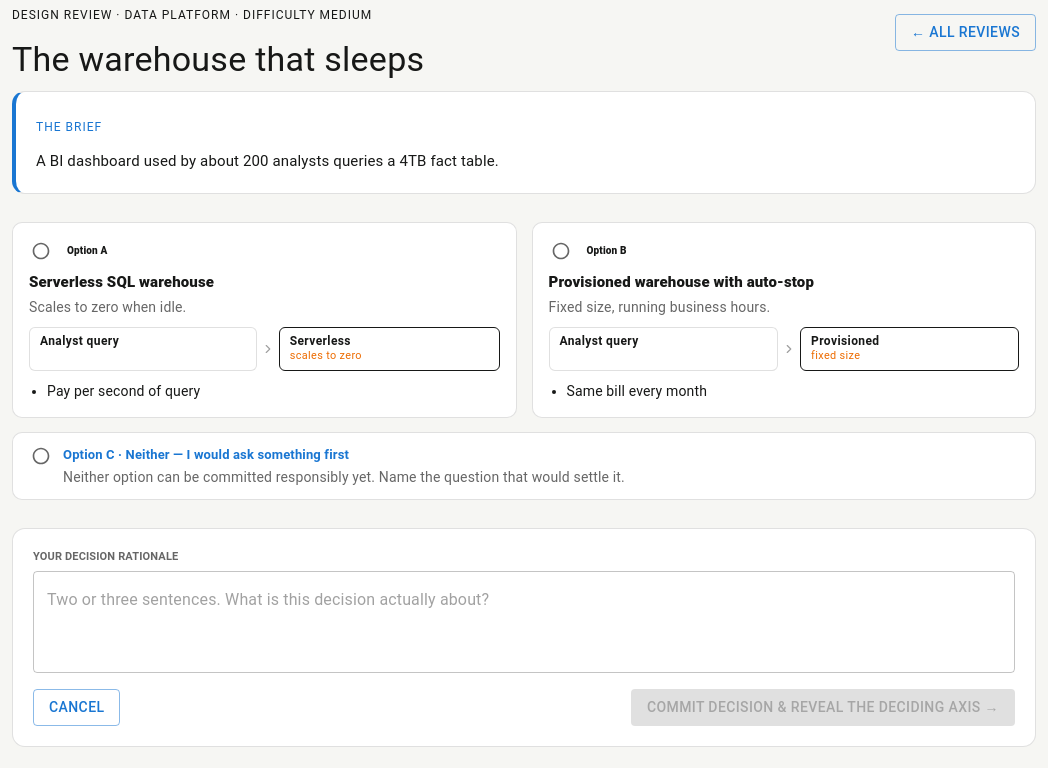
Test: DesignReviewPage › asks for the question up front when declining to choose
Check: the heading "Serverless SQL warehouse" is shown, box [29, 273, 214, 291]
Check: the text box with placeholder "Two or three sentences" is shown, box [47, 588, 1001, 657]
Step 1. Click the text "Option C · Neither — I would ask something first" → (206, 455), box [63, 447, 349, 462]
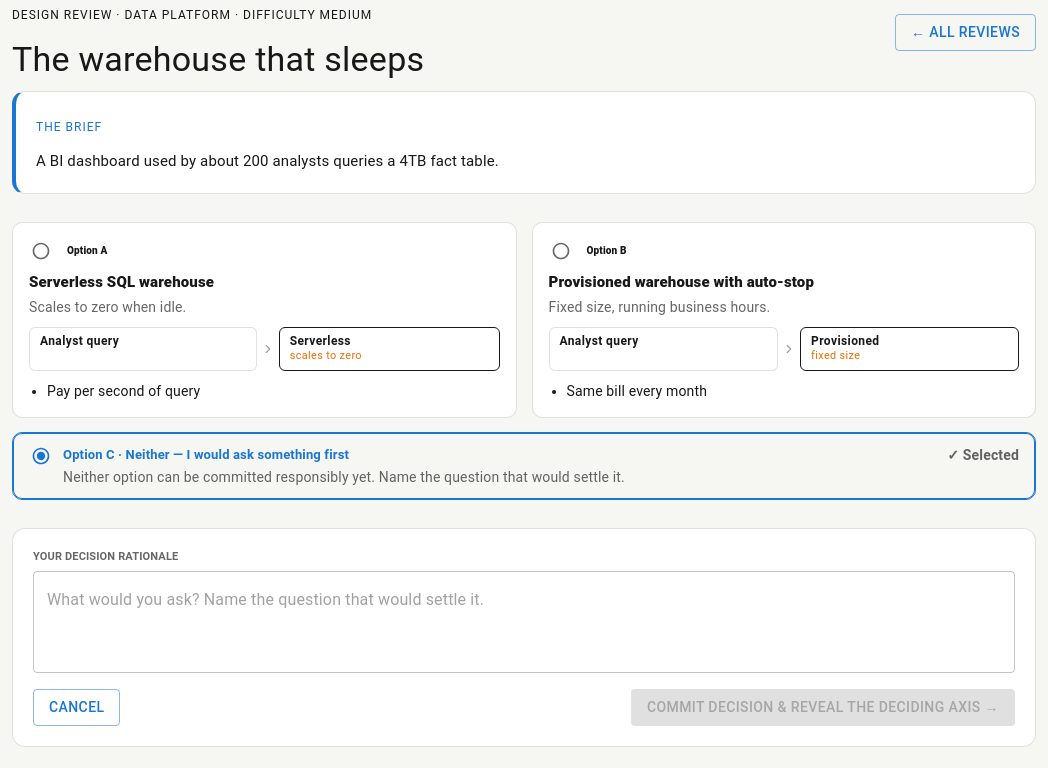
Check: the text box with placeholder "What would you ask? Name the question that would settle it." is shown, box [47, 588, 1001, 657]
